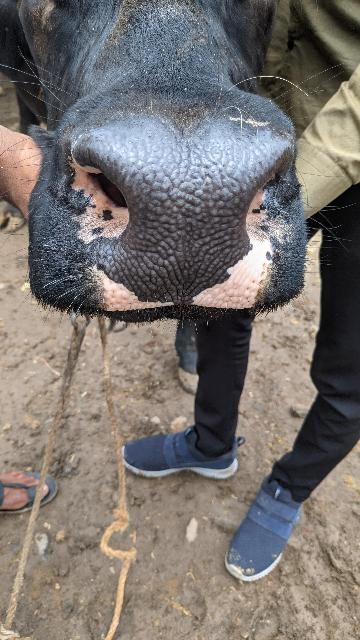Muzzle: (77, 122, 269, 316)
